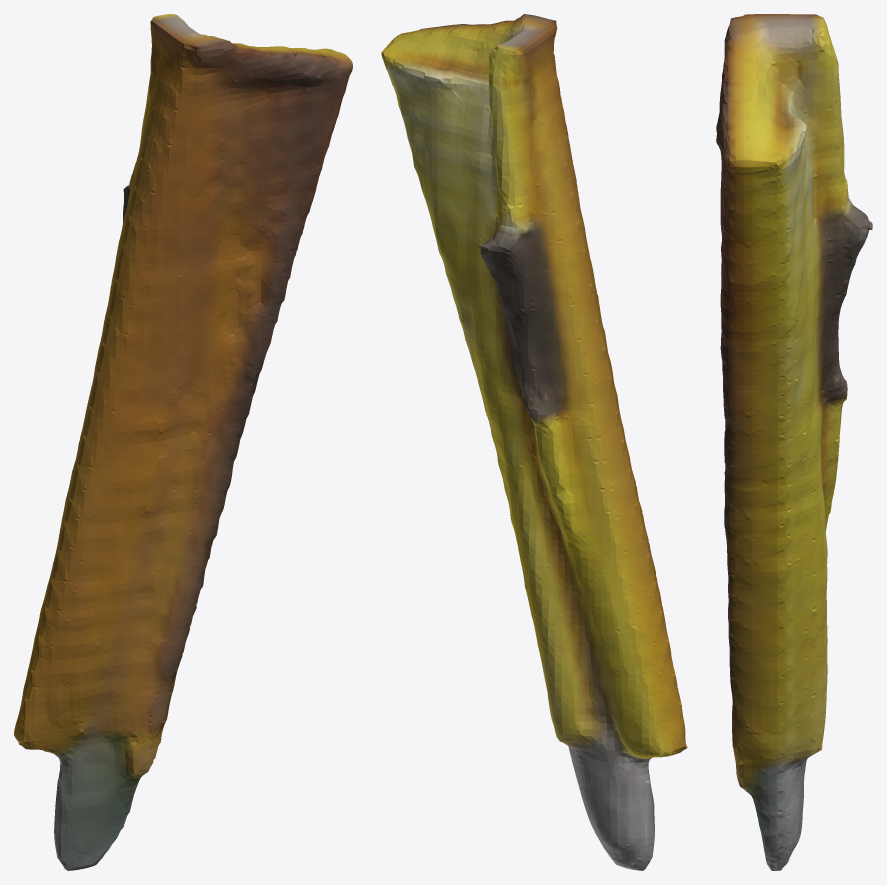
The model's file is obj3_scaled.glb.
The picture shows the model from 3 angles, left to right: view 1: azimuth 30°, elevation 25°; view 2: azimuth 150°, elevation 25°; view 3: azimuth 270°, elevation 25°; orthographic projection. The views are drawn at different scales.
Parts seen in each view (by area): view 1: world; view 2: world; view 3: world.
Boxes of the visible parts, <box> form: world: <box>14,14,352,870</box>; world: <box>381,14,687,870</box>; world: <box>716,14,872,870</box>.
Size of the model in its own units: 0.0783 by 0.1945 by 0.0307.
